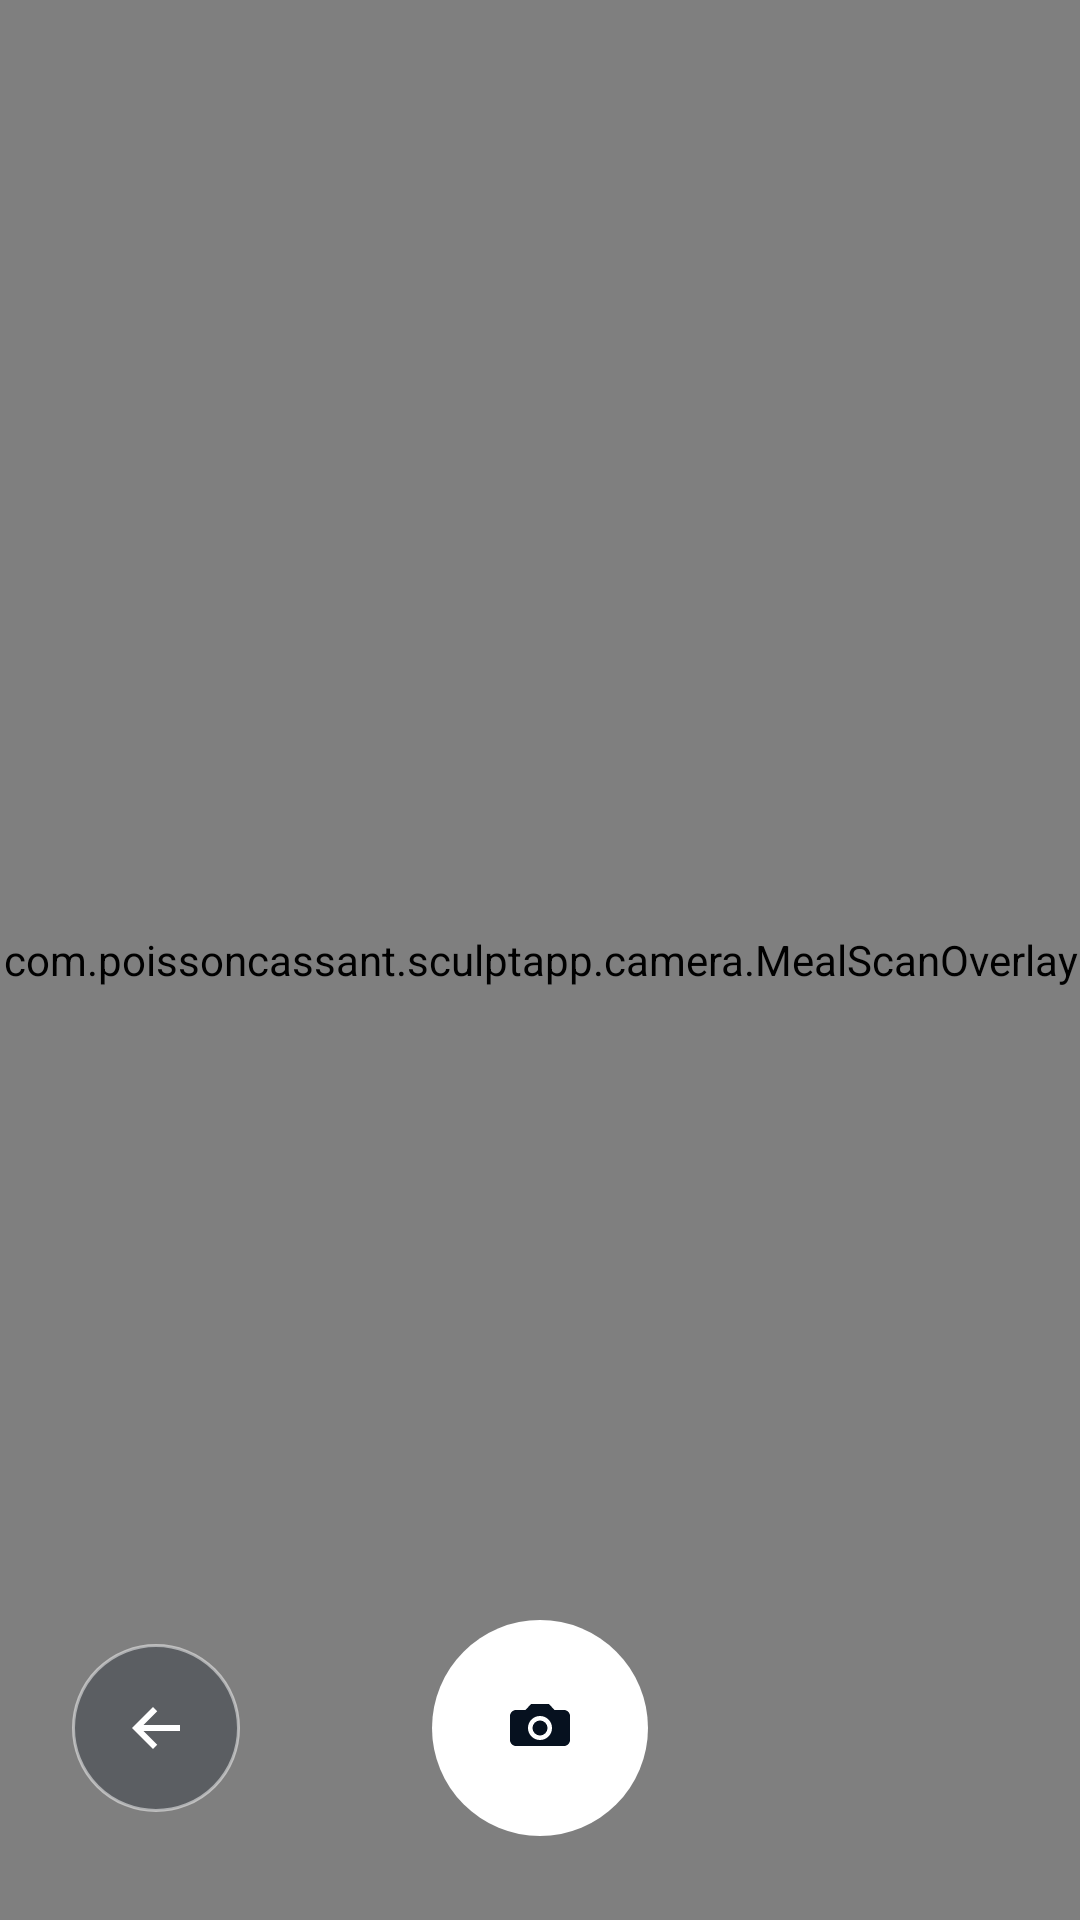

Icons on this 1080 × 1920 Android screen, each with the point to tap as (x=x, y=y):
Go back: (x=156, y=1728)
Take photo: (x=540, y=1728)
